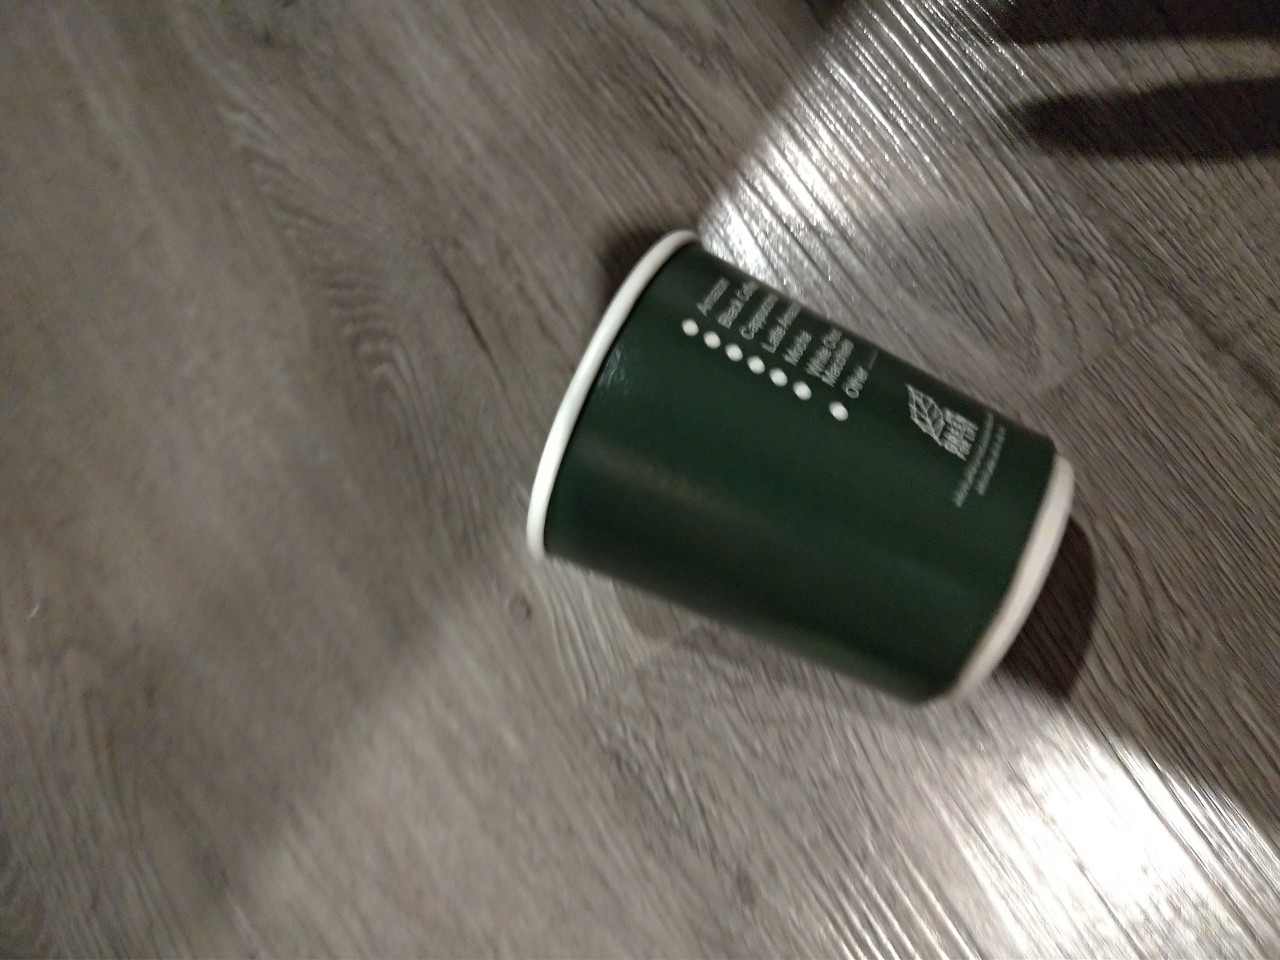PaperCup: (515, 225, 1079, 708)
